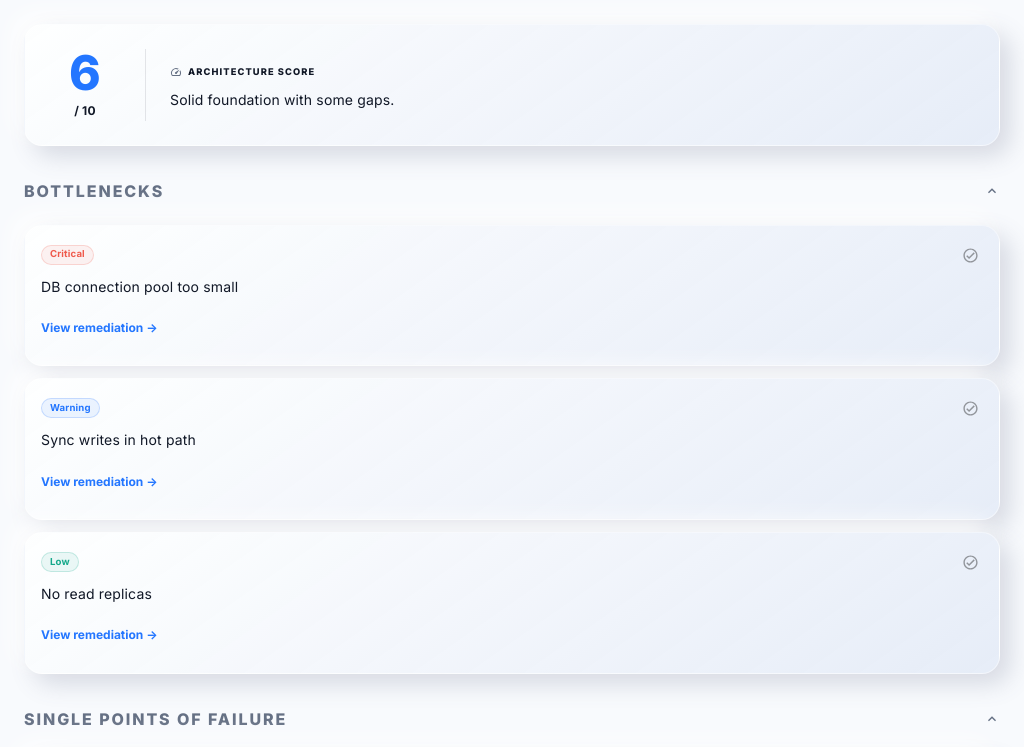
Test: Collapsible sections — collapse/expand › collapses a section when its header is clicked
Click the button "Bottlenecks".
click(94, 191)  # box [24,181,1000,201]
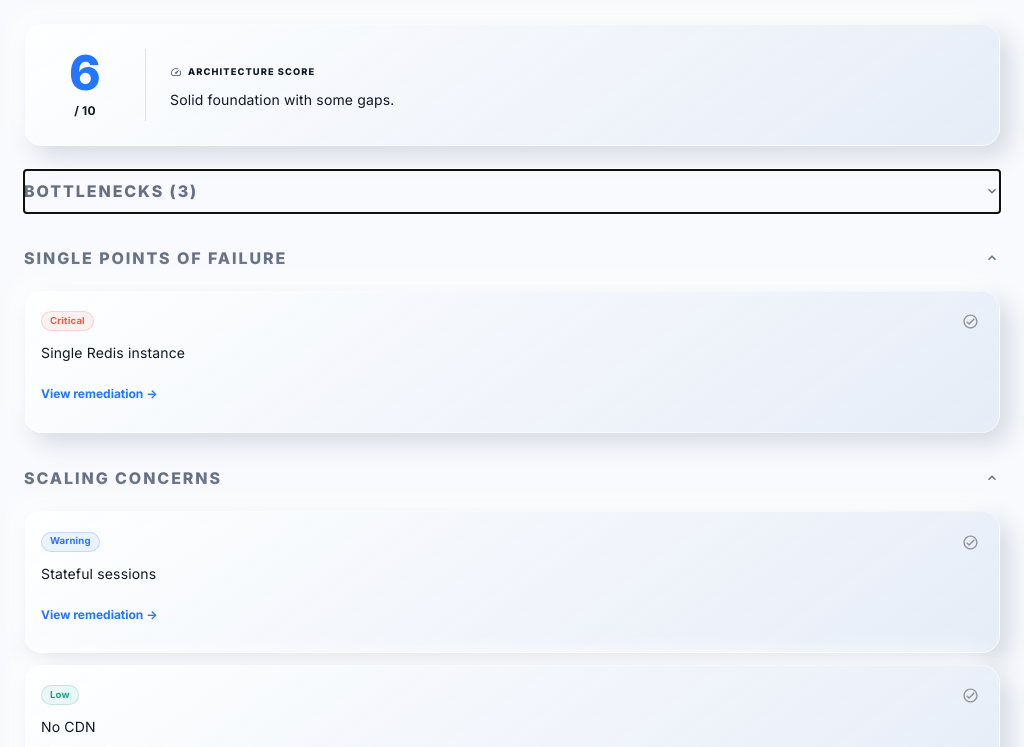
Expected: the text "DB connection pool too small" is gone
